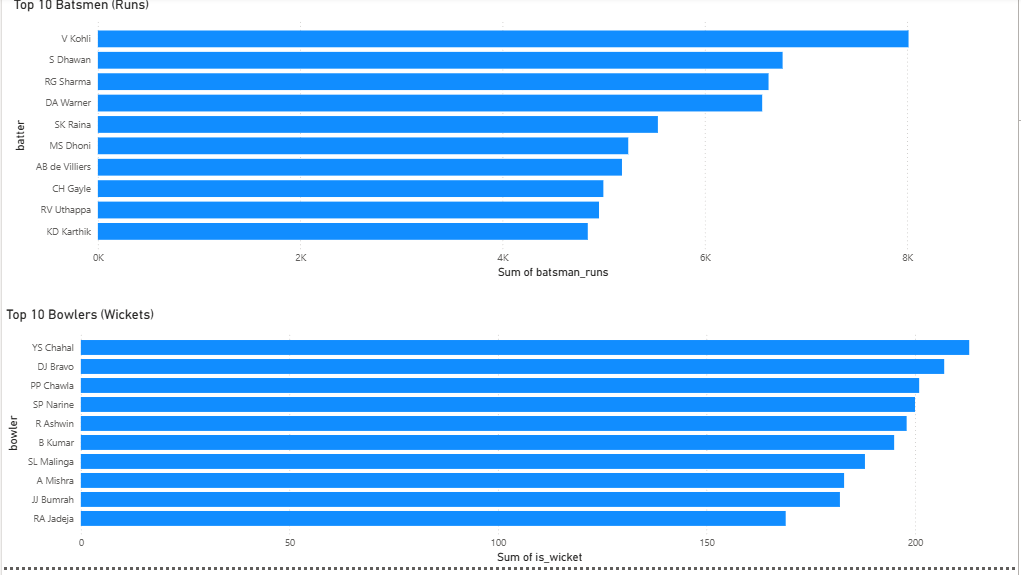

Layout of this report page (visuals, bound fields, positions):
{"tool":"powerbi","page":{"name":"Page 3","canvas":[1280,720],"ordinal":2},"visuals":[{"type":"clusteredBarChart","title":"Top 10 Batsmen (Runs)","fields":{"Y":["Sum(deliveries.batsman_runs)"],"Category":["deliveries.batter"]},"box":[10,0,1270,360],"z":0},{"type":"clusteredBarChart","title":"Top 10 Bowlers (Wickets)","fields":{"Category":["deliveries.bowler"],"Y":["Sum(deliveries.is_wicket)"]},"box":[0,392,1270,328],"z":1000}]}

Visuals, with their boxes in screenshot pixels (x1, y1, x2, y2), scaled from the page's 1280x720 canvas onto the 1021x575 screenshot:
"Top 10 Batsmen (Runs)" clusteredBarChart: 8,0,1020,288
"Top 10 Bowlers (Wickets)" clusteredBarChart: 0,313,1013,574
